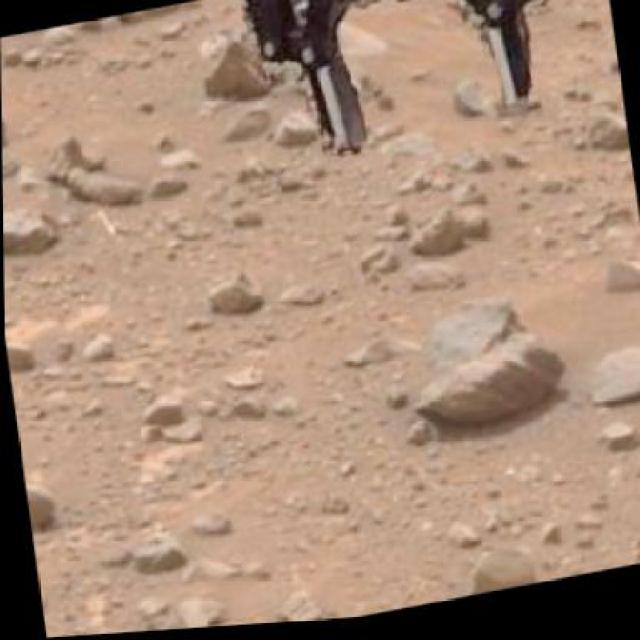rock: (405, 324, 570, 450), (195, 22, 291, 107), (2, 196, 70, 264), (462, 540, 538, 598), (23, 471, 66, 535)
